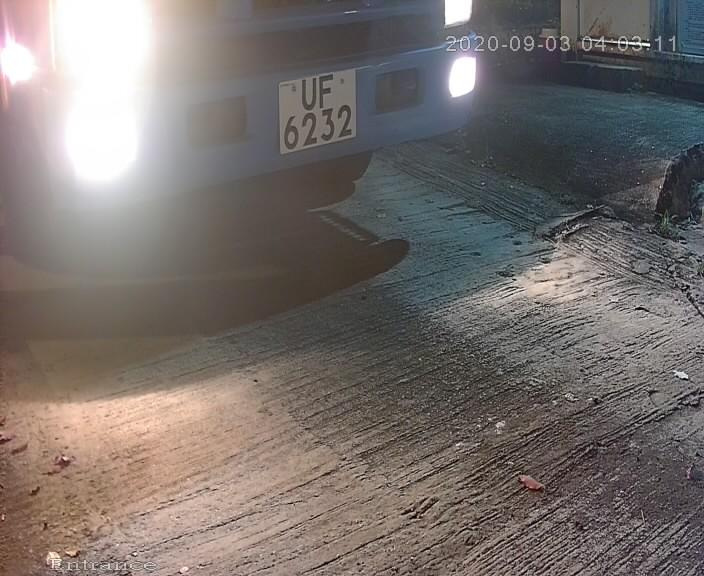License Plate: (258, 55, 375, 170)
